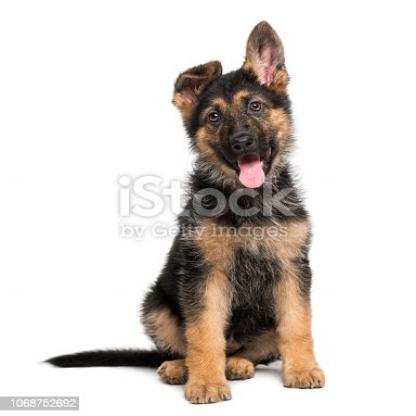german shepherd: (39, 18, 330, 396)
